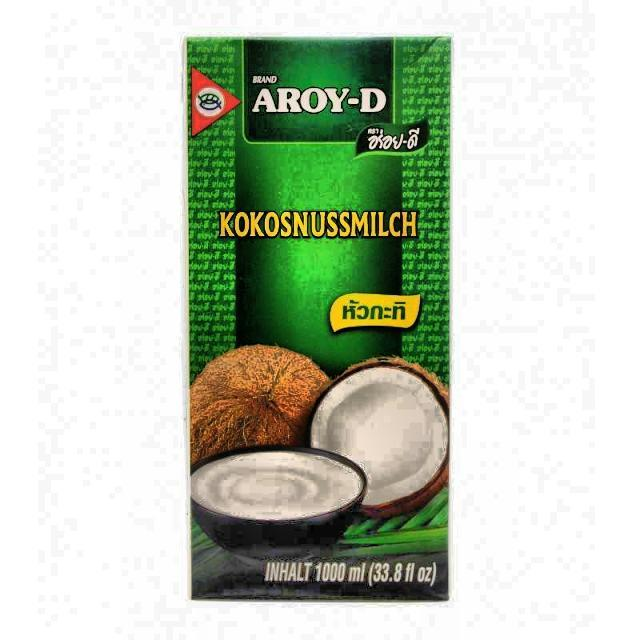cardboard: (185, 35, 452, 601)
